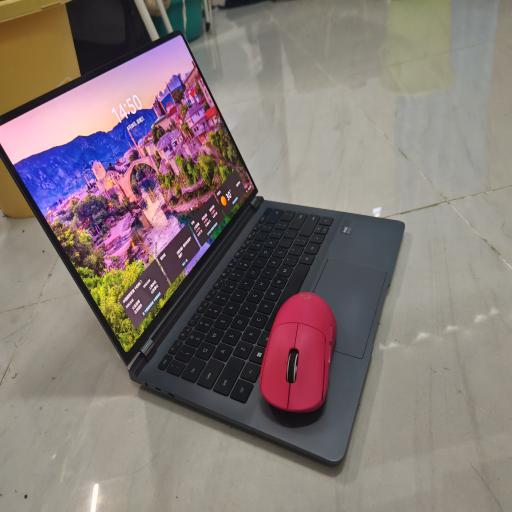laptop: (0, 32, 404, 464)
mouse: (260, 292, 336, 412)
